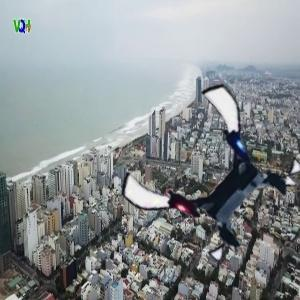drone: (134, 101, 289, 256)
